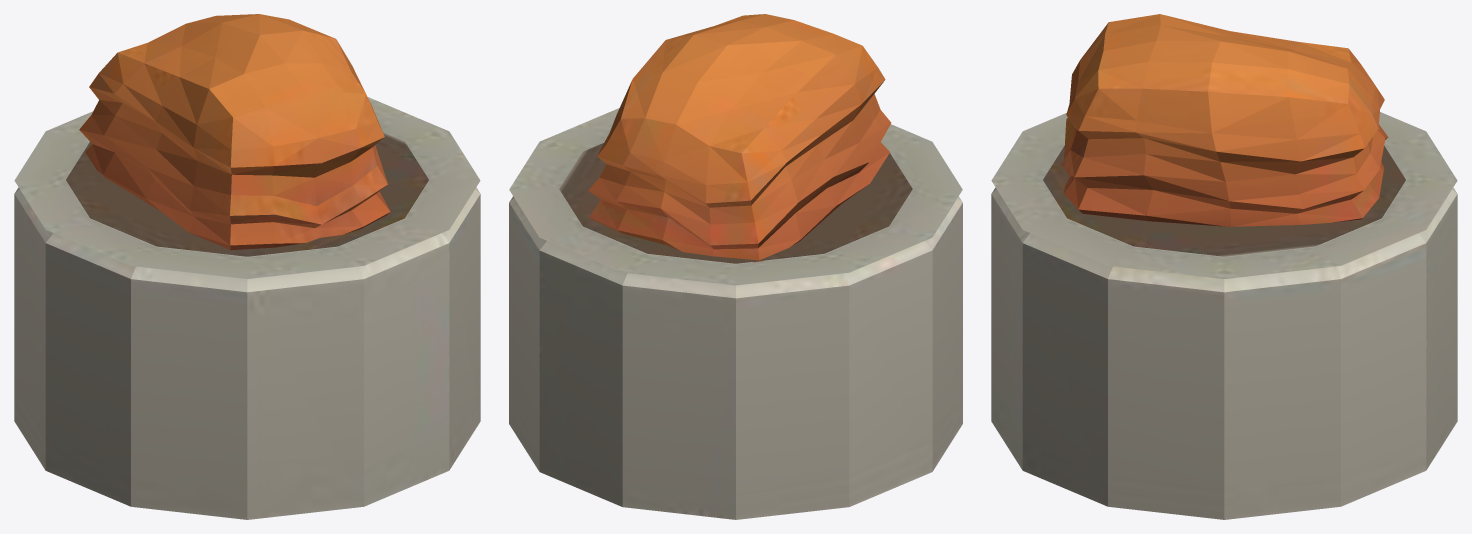
The model's file is gate_planter_bush.glb.
3 renders of one model, left to right at view 1: azimuth 30°, elevation 25°; view 2: azimuth 150°, elevation 25°; view 3: azimuth 270°, elevation 25°, orthographic. The views are drawn at different scales.
Parts seen in each view (by area): view 1: gate_planter_bush; view 2: gate_planter_bush; view 3: gate_planter_bush.
Boxes of the visible parts, x1,y1,x2,y2 form: gate_planter_bush: [14, 14, 480, 519]; gate_planter_bush: [509, 14, 962, 519]; gate_planter_bush: [991, 14, 1457, 519].
Bounding box in the file's own units: 0.68 × 0.62 × 0.68.
Materials: 1 (1 with a texture image).
